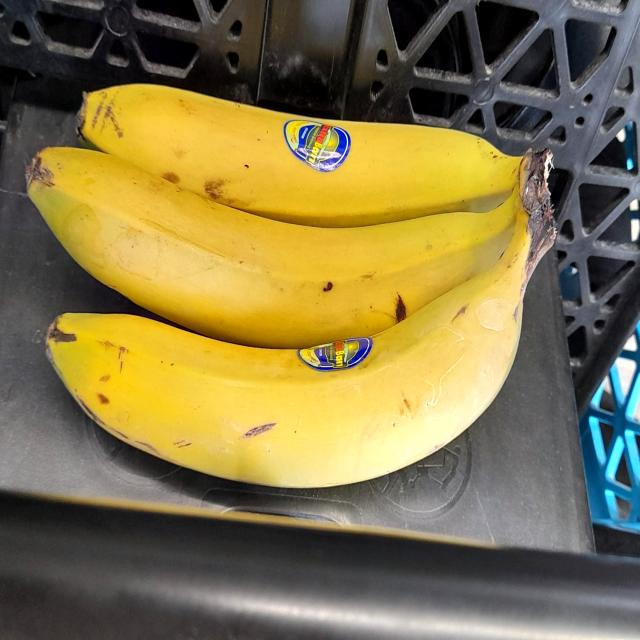banana: (22, 105, 573, 467), (40, 191, 554, 496)
